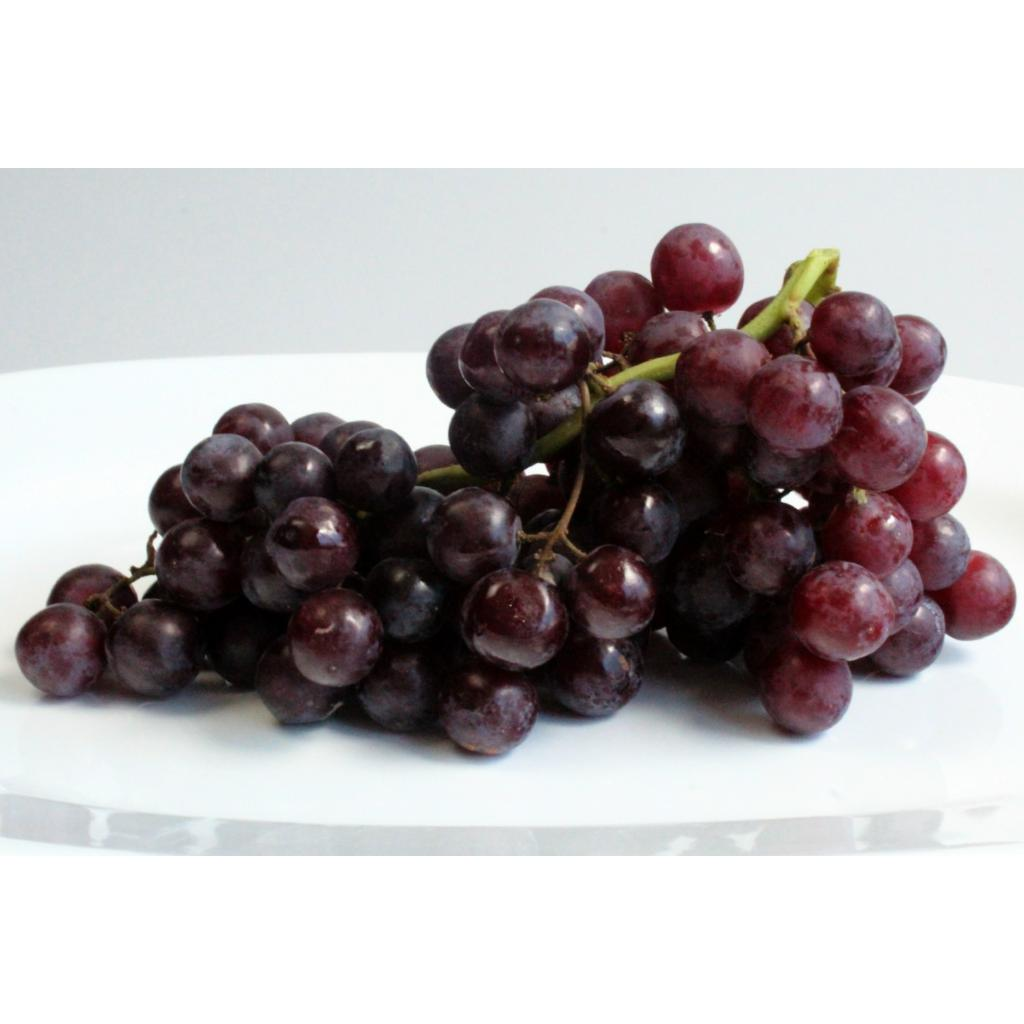grape: (15, 224, 1014, 754)
